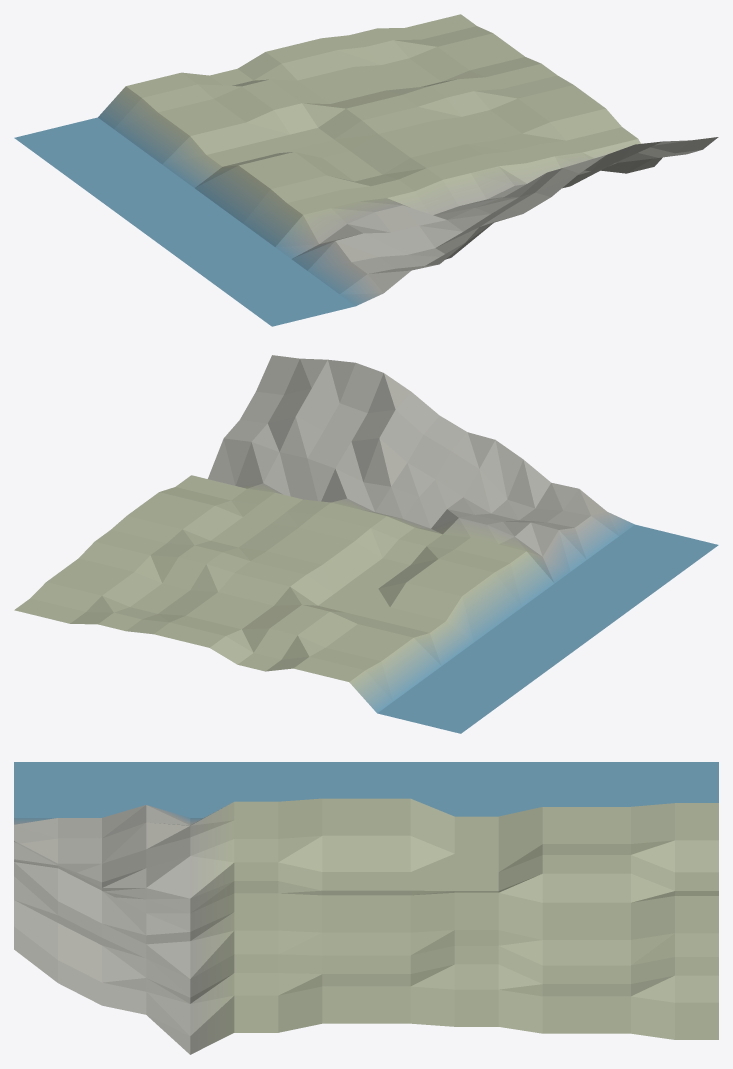
The picture shows the model from 3 angles, top to bottom: view 1: azimuth 30°, elevation 25°; view 2: azimuth 150°, elevation 25°; view 3: azimuth 270°, elevation 25°; orthographic projection. The views are drawn at different scales.
Size of the model in its own units: 32 by 6.41 by 32.
